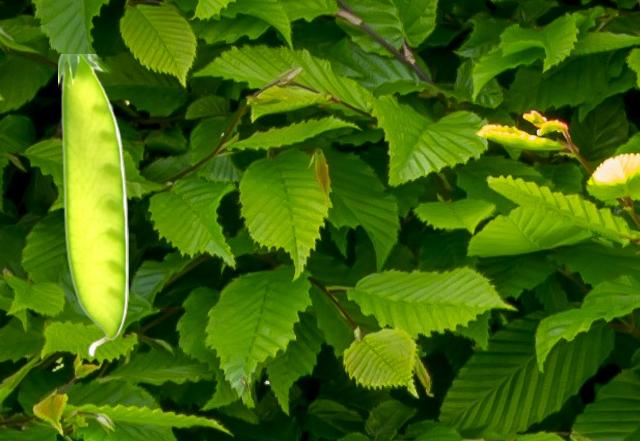pea: (58, 54, 127, 356)
